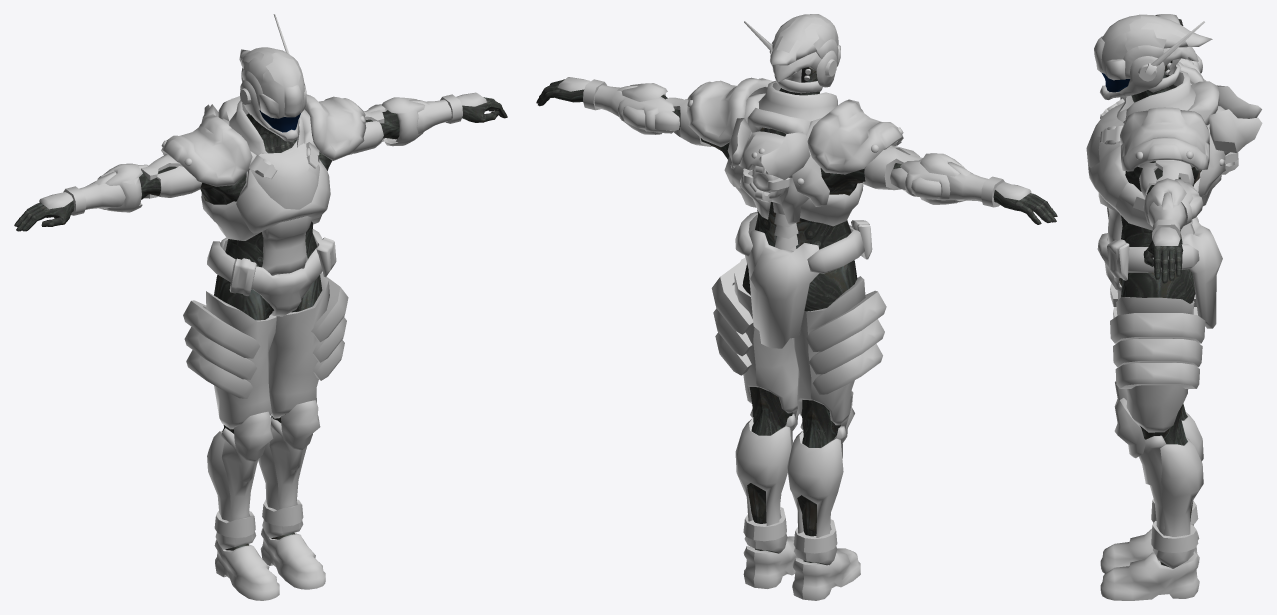
Rendered from robot.obj.
3 views of the same model, side by side, from view 1: azimuth 30°, elevation 25°; view 2: azimuth 150°, elevation 25°; view 3: azimuth 270°, elevation 25° (orthographic). The views are drawn at different scales.
Parts seen in each view (by area): view 1: Model001_24_Outersuitlowerd_1.0_0.0_0.0, Model001_24_Outersuitupperd_1.0_0.0_0.0, Model001_24_Vanquish_1.0_0.0_0.0, Model001_24_Innersuitd_1.0_0.0_0.0; view 2: Model001_24_Outersuitlowerd_1.0_0.0_0.0, Model001_24_Outersuitupperd_1.0_0.0_0.0, Model001_24_Vanquish_1.0_0.0_0.0; view 3: Model001_24_Outersuitlowerd_1.0_0.0_0.0, Model001_24_Outersuitupperd_1.0_0.0_0.0, Model001_24_Vanquish_1.0_0.0_0.0, Model001_24_Innersuitd_1.0_0.0_0.0, Model001_24_Visor_1.0_0.0_0.0.
Part boxes in pixels (x1=…): Model001_24_Outersuitlowerd_1.0_0.0_0.0: x1=183, y1=99, x2=348, y2=600; Model001_24_Outersuitupperd_1.0_0.0_0.0: x1=39, y1=14, x2=486, y2=215; Model001_24_Vanquish_1.0_0.0_0.0: x1=14, y1=110, x2=399, y2=550; Model001_24_Innersuitd_1.0_0.0_0.0: x1=462, y1=97, x2=507, y2=122; Model001_24_Outersuitlowerd_1.0_0.0_0.0: x1=711, y1=81, x2=886, y2=600; Model001_24_Outersuitupperd_1.0_0.0_0.0: x1=558, y1=14, x2=1031, y2=224; Model001_24_Vanquish_1.0_0.0_0.0: x1=545, y1=67, x2=1057, y2=565; Model001_24_Outersuitlowerd_1.0_0.0_0.0: x1=1086, y1=70, x2=1222, y2=600; Model001_24_Outersuitupperd_1.0_0.0_0.0: x1=1094, y1=14, x2=1262, y2=245; Model001_24_Vanquish_1.0_0.0_0.0: x1=1119, y1=15, x2=1201, y2=567; Model001_24_Innersuitd_1.0_0.0_0.0: x1=1143, y1=241, x2=1182, y2=283; Model001_24_Visor_1.0_0.0_0.0: x1=1102, y1=73, x2=1130, y2=92.
Size of the model in its own units: 3.26 by 3.43 by 0.951.
